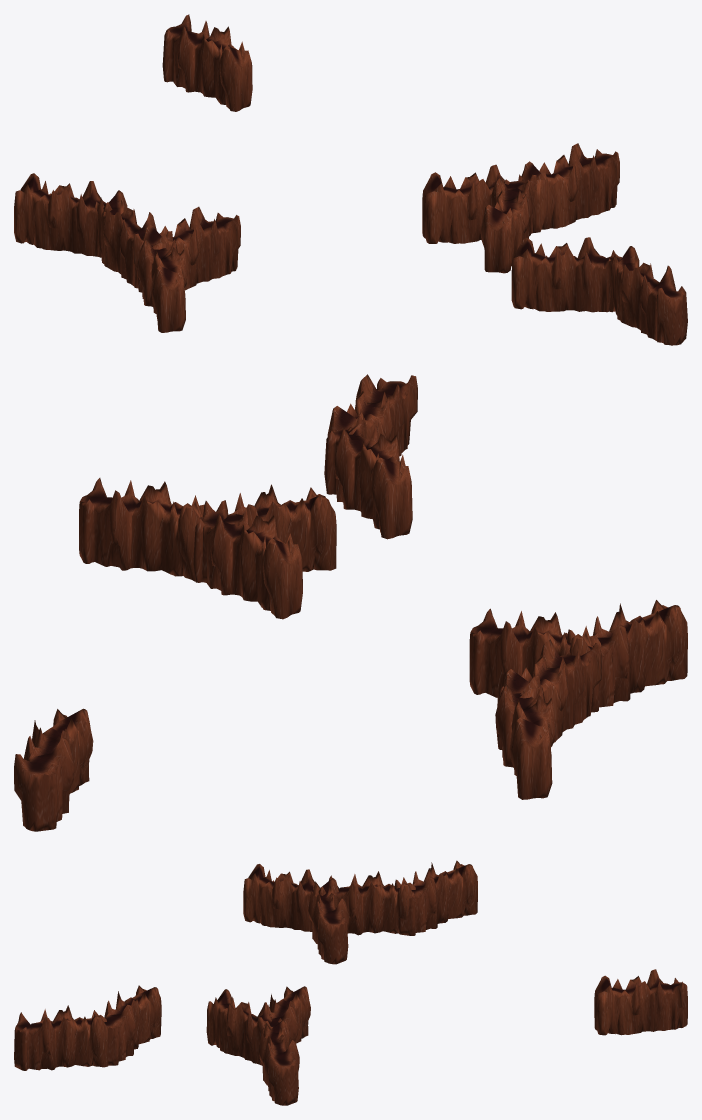
File: LV1Crack.fbx
The picture shows the model from 3 angles, top to bottom: view 1: azimuth 30°, elevation 25°; view 2: azimuth 150°, elevation 25°; view 3: azimuth 270°, elevation 25°; orthographic projection. The views are drawn at different scales.
Visible parts, largest first — view 1: polySurface149; view 2: polySurface149; view 3: polySurface149.
Part boxes in pixels (left/top/right/bottom): polySurface149: left=14, top=14, right=687, bottom=345; polySurface149: left=14, top=374, right=687, bottom=831; polySurface149: left=14, top=860, right=687, bottom=1105.
Size of the model in its own units: 129 by 15.88 by 185.
